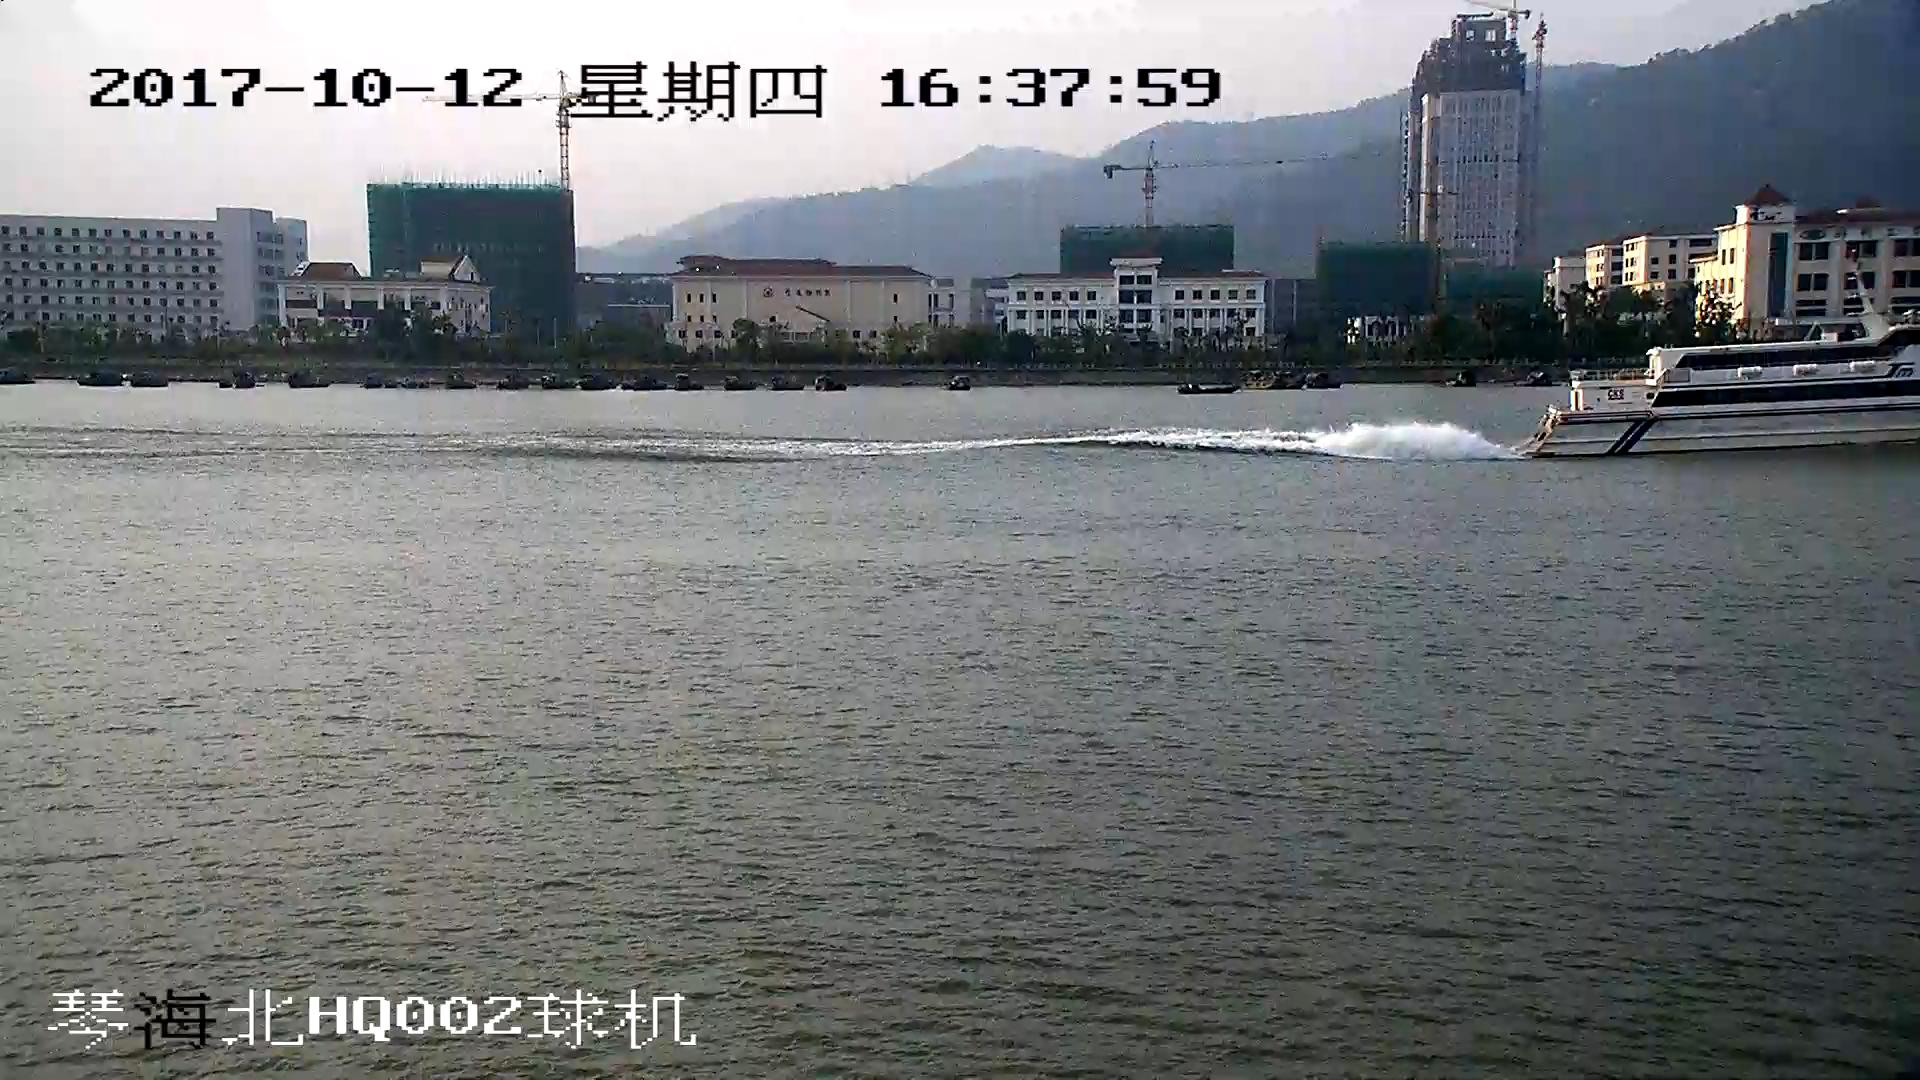passenger ship: (1524, 272, 1920, 453)
